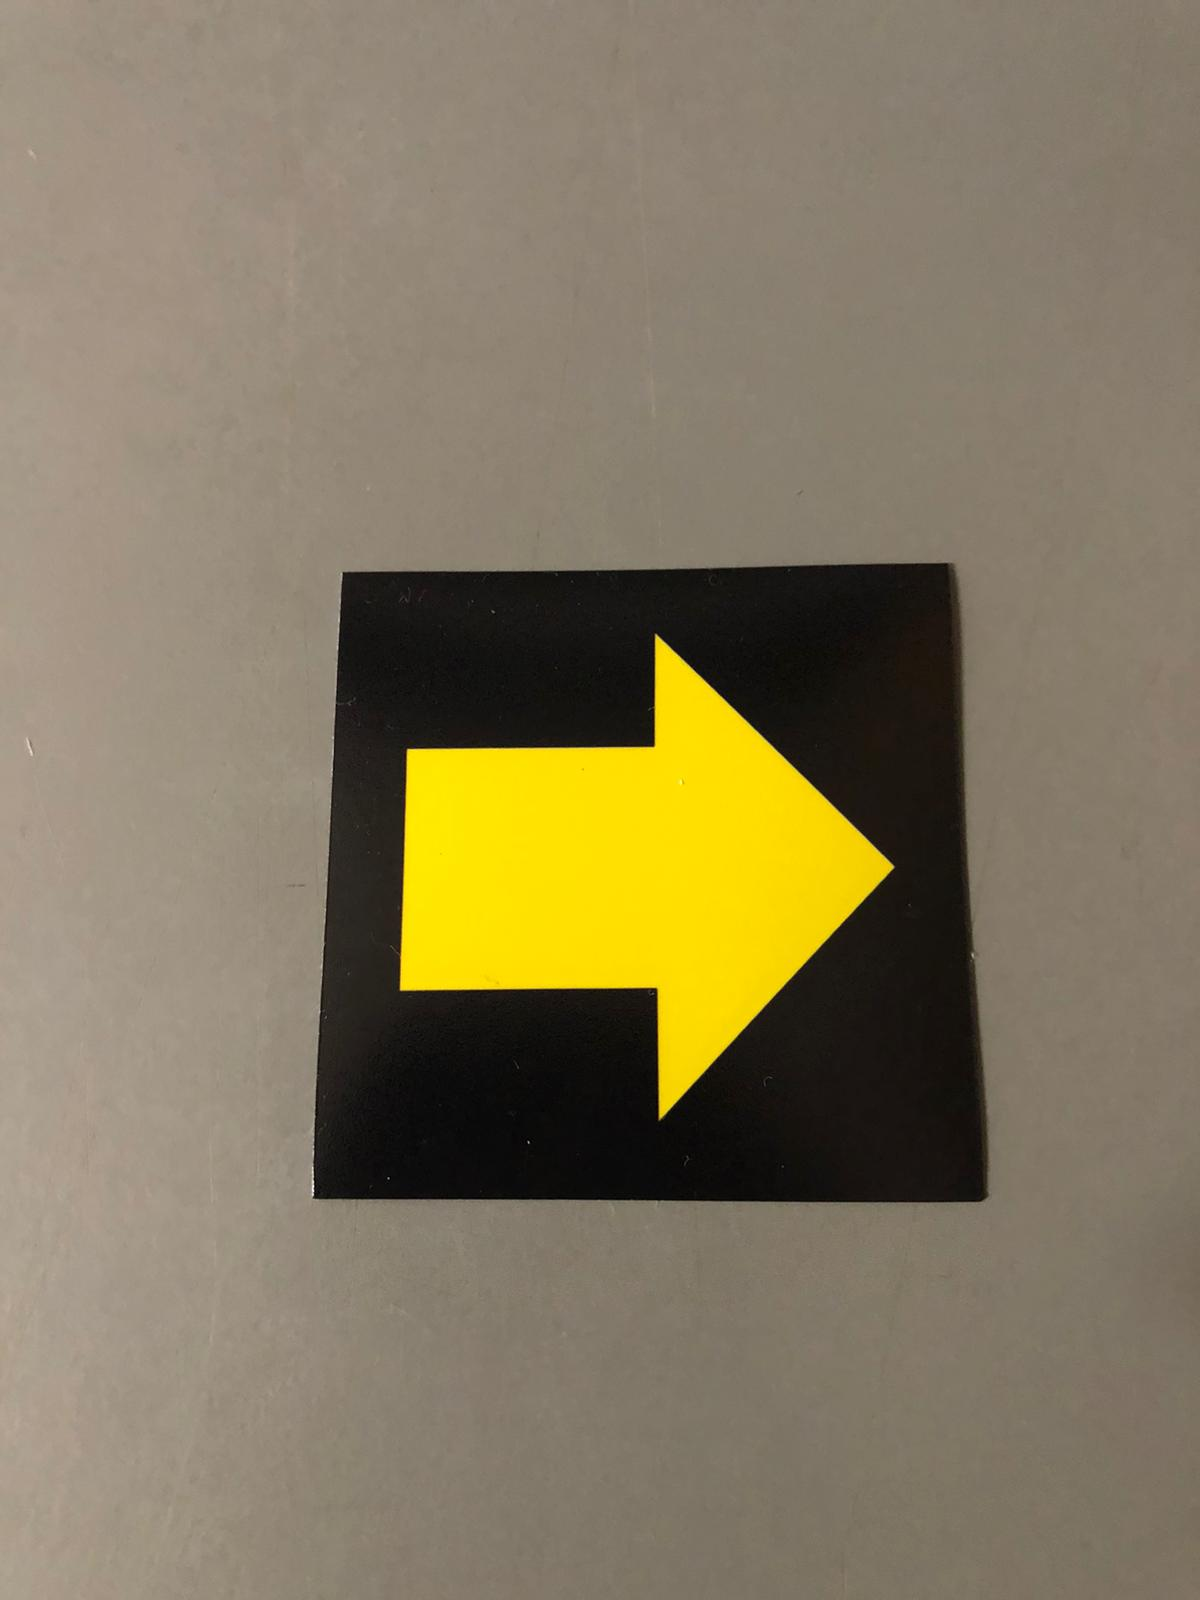Right Arrow: (345, 598, 934, 1184)
